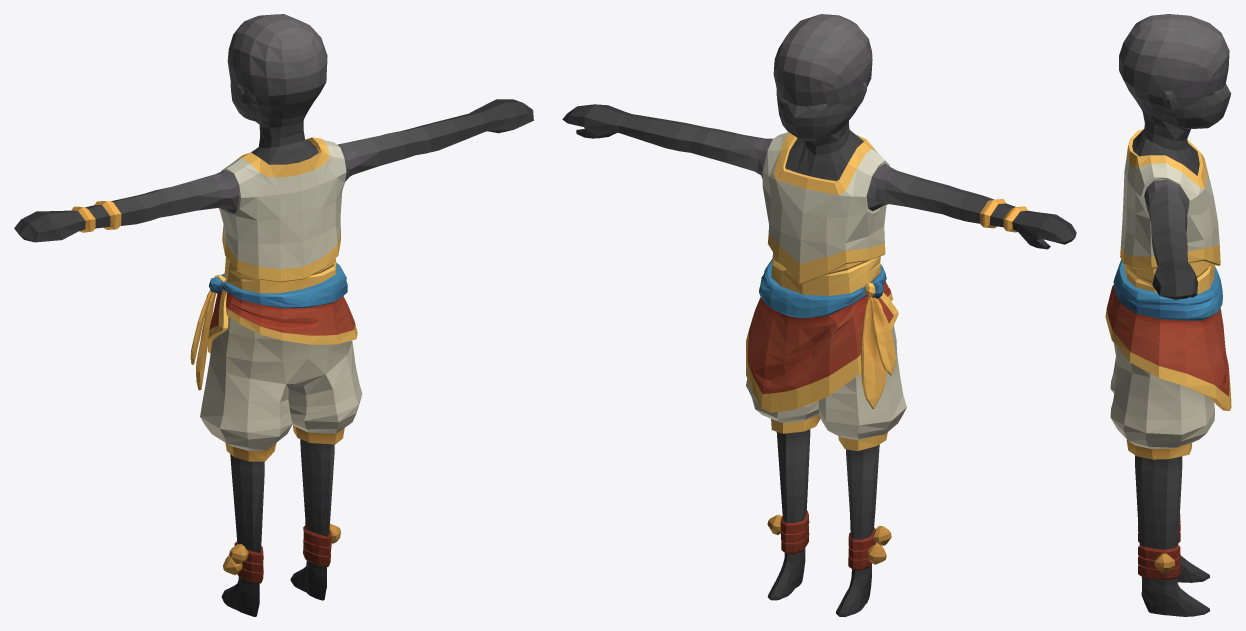
File: CharSkyKid_Body_AP28JellyShorts.glb
The picture shows the model from 3 angles, left to right: view 1: azimuth 30°, elevation 25°; view 2: azimuth 150°, elevation 25°; view 3: azimuth 270°, elevation 25°; orthographic projection.
Visible parts, largest first — view 1: CharSkyKid_Body_AP28JellyShorts; view 2: CharSkyKid_Body_AP28JellyShorts; view 3: CharSkyKid_Body_AP28JellyShorts.
Boxes of the visible parts, x1,y1,x2,y2 form: CharSkyKid_Body_AP28JellyShorts: (14,14,533,616); CharSkyKid_Body_AP28JellyShorts: (562,14,1076,616); CharSkyKid_Body_AP28JellyShorts: (1105,14,1231,616).
Bounding box in the file's own units: 13.83 × 14.94 × 2.96.
1 material, 1 textured.
